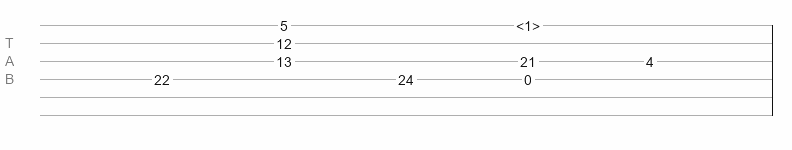0: (524, 72, 532, 82)
12: (276, 36, 292, 46)
13: (276, 54, 292, 64)
21: (520, 54, 536, 64)
22: (154, 72, 170, 82)
24: (398, 72, 414, 82)
4: (646, 54, 654, 64)
5: (280, 18, 288, 28)
harmonic: (516, 18, 540, 28)
